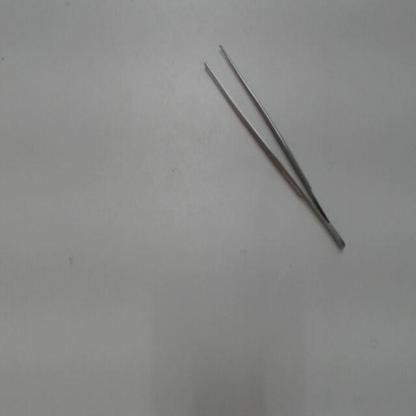Gillies Toothed Dissector: (196, 27, 348, 256)
